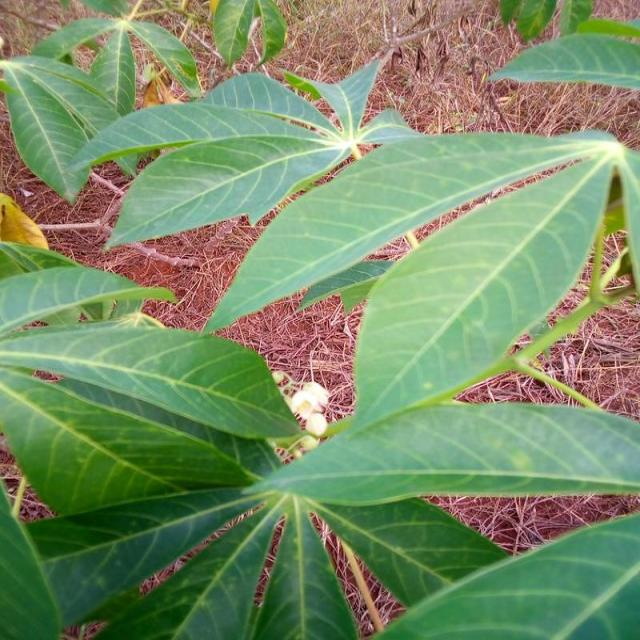cassava leaf: (0, 20, 638, 637), (200, 127, 618, 335), (350, 139, 616, 430), (0, 313, 301, 516)
